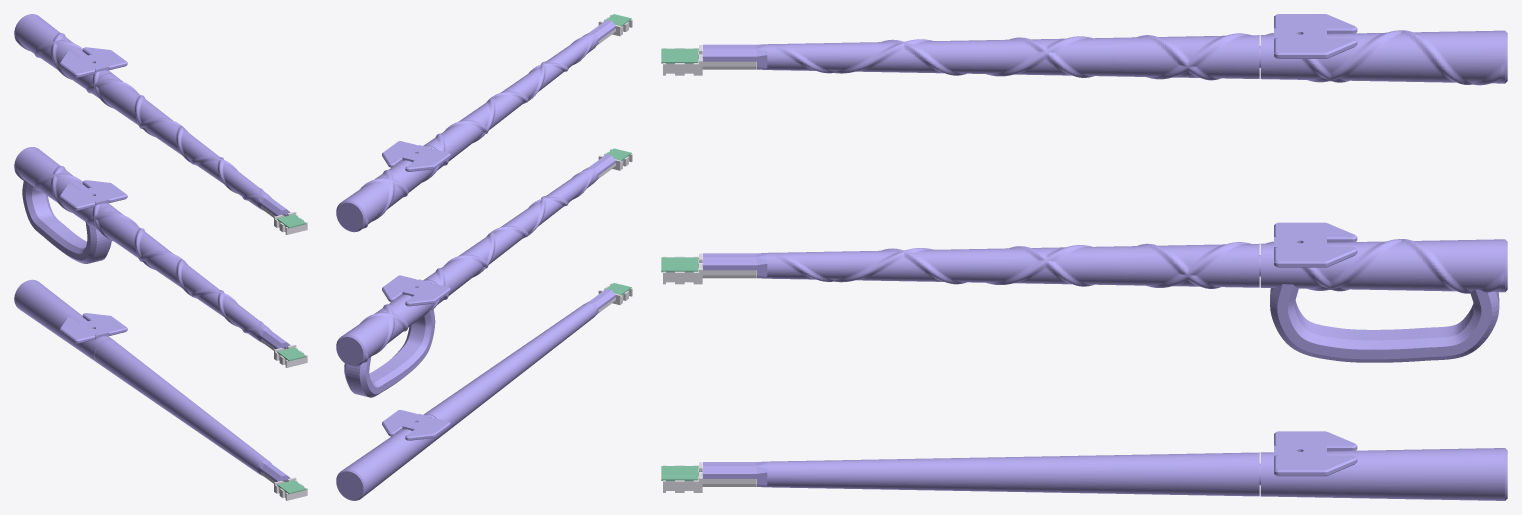
File: assembly-tapered-xiao.glb
3 views of the same model, side by side, from view 1: azimuth 30°, elevation 25°; view 2: azimuth 150°, elevation 25°; view 3: azimuth 270°, elevation 25° (orthographic). The views are drawn at different scales.
Parts seen in each view (by area): view 1: tapered-xiao-mug/handle-tapered-mug-spiral, tapered-xiao-spiral/handle-tapered-spiral, tapered-xiao-smooth/handle-tapered-smooth, tapered-xiao-mug/shaft-lower-tapered-spiral, tapered-xiao-spiral/shaft-lower-tapered-spiral, tapered-xiao-smooth/shaft-lower-tapered-smooth, tapered-xiao-spiral/shaft-upper-tapered-spiral, tapered-xiao-mug/shaft-upper-tapered-spiral, tapered-xiao-smooth/shaft-upper-tapered-smooth, tapered-xiao-spiral/tip-xiao, tapered-xiao-smooth/tip-xiao, tapered-xiao-mug/tip-xiao; view 2: tapered-xiao-mug/handle-tapered-mug-spiral, tapered-xiao-spiral/handle-tapered-spiral, tapered-xiao-smooth/handle-tapered-smooth, tapered-xiao-mug/shaft-lower-tapered-spiral, tapered-xiao-spiral/shaft-lower-tapered-spiral, tapered-xiao-smooth/shaft-lower-tapered-smooth, tapered-xiao-mug/shaft-upper-tapered-spiral, tapered-xiao-spiral/shaft-upper-tapered-spiral, tapered-xiao-smooth/shaft-upper-tapered-smooth; view 3: tapered-xiao-mug/handle-tapered-mug-spiral, tapered-xiao-spiral/handle-tapered-spiral, tapered-xiao-smooth/handle-tapered-smooth, tapered-xiao-mug/shaft-lower-tapered-spiral, tapered-xiao-spiral/shaft-lower-tapered-spiral, tapered-xiao-smooth/shaft-lower-tapered-smooth, tapered-xiao-mug/shaft-upper-tapered-spiral, tapered-xiao-spiral/shaft-upper-tapered-spiral, tapered-xiao-smooth/shaft-upper-tapered-smooth, tapered-xiao-mug/tip-xiao, tapered-xiao-spiral/tip-xiao, tapered-xiao-smooth/tip-xiao.
Boxes of the visible parts, <box> form: tapered-xiao-mug/handle-tapered-mug-spiral: <box>14,147,127,263</box>; tapered-xiao-spiral/handle-tapered-spiral: <box>14,14,127,97</box>; tapered-xiao-smooth/handle-tapered-smooth: <box>14,279,127,362</box>; tapered-xiao-mug/shaft-lower-tapered-spiral: <box>94,206,200,293</box>; tapered-xiao-spiral/shaft-lower-tapered-spiral: <box>94,74,200,160</box>; tapered-xiao-smooth/shaft-lower-tapered-smooth: <box>95,339,200,425</box>; tapered-xiao-spiral/shaft-upper-tapered-spiral: <box>186,141,290,216</box>; tapered-xiao-mug/shaft-upper-tapered-spiral: <box>186,274,290,349</box>; tapered-xiao-smooth/shaft-upper-tapered-smooth: <box>186,407,290,481</box>; tapered-xiao-spiral/tip-xiao: <box>261,206,307,234</box>; tapered-xiao-smooth/tip-xiao: <box>261,472,307,500</box>; tapered-xiao-mug/tip-xiao: <box>261,339,307,367</box>; tapered-xiao-mug/handle-tapered-mug-spiral: <box>336,275,450,397</box>; tapered-xiao-spiral/handle-tapered-spiral: <box>336,141,450,232</box>; tapered-xiao-smooth/handle-tapered-smooth: <box>336,410,450,500</box>; tapered-xiao-mug/shaft-lower-tapered-spiral: <box>423,217,528,302</box>; tapered-xiao-spiral/shaft-lower-tapered-spiral: <box>423,82,528,168</box>; tapered-xiao-smooth/shaft-lower-tapered-smooth: <box>424,351,528,436</box>; tapered-xiao-mug/shaft-upper-tapered-spiral: <box>514,154,615,237</box>; tapered-xiao-spiral/shaft-upper-tapered-spiral: <box>514,20,615,103</box>; tapered-xiao-smooth/shaft-upper-tapered-smooth: <box>515,288,615,369</box>; tapered-xiao-mug/handle-tapered-mug-spiral: <box>1259,222,1507,362</box>; tapered-xiao-spiral/handle-tapered-spiral: <box>1259,14,1507,85</box>; tapered-xiao-smooth/handle-tapered-smooth: <box>1259,431,1507,500</box>; tapered-xiao-mug/shaft-lower-tapered-spiral: <box>981,242,1259,288</box>; tapered-xiao-spiral/shaft-lower-tapered-spiral: <box>981,33,1259,80</box>; tapered-xiao-smooth/shaft-lower-tapered-smooth: <box>981,452,1259,496</box>; tapered-xiao-mug/shaft-upper-tapered-spiral: <box>703,248,981,284</box>; tapered-xiao-spiral/shaft-upper-tapered-spiral: <box>703,39,981,75</box>; tapered-xiao-smooth/shaft-upper-tapered-smooth: <box>703,457,981,491</box>; tapered-xiao-mug/tip-xiao: <box>663,253,756,284</box>; tapered-xiao-spiral/tip-xiao: <box>663,45,756,75</box>; tapered-xiao-smooth/tip-xiao: <box>663,462,756,492</box>.
Size of the model in its own units: 0.0537 by 0.2902 by 0.4779.
